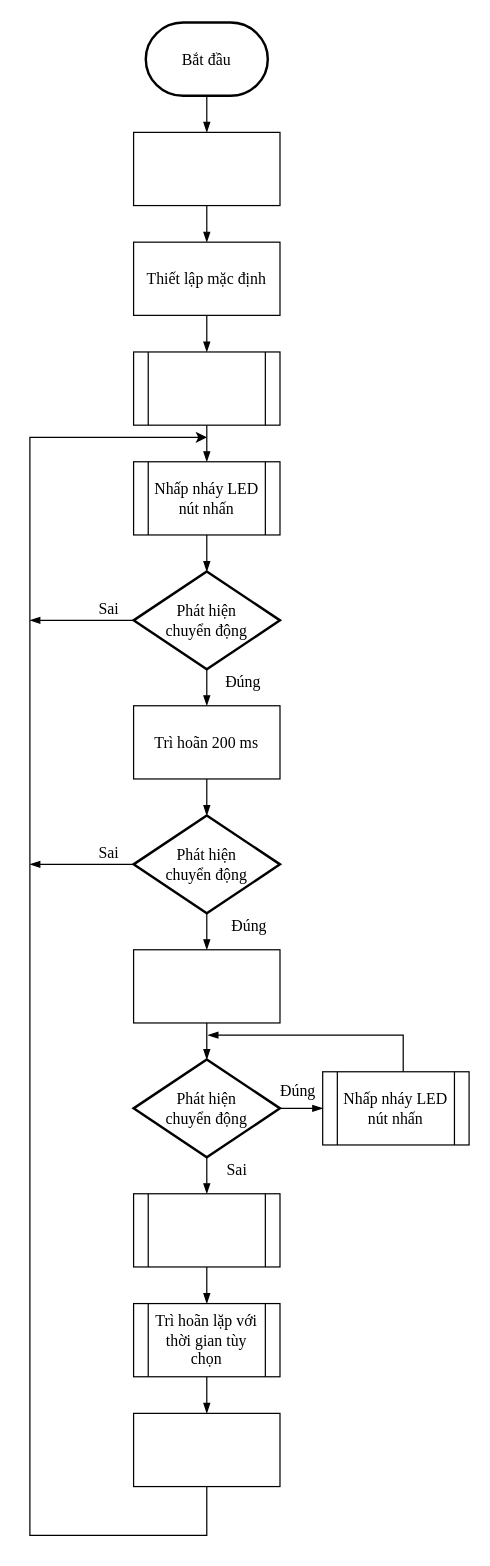
The diagram is 490 pixels wide and 1566 high, and some of its shapes have lost their labels. The shapes that lost their labels are listed below. From the top down, each one's box as (x1, y1, x2, y2) in pixels, then its label:
(132, 131, 280, 206): Thiết lập phần cứng
(132, 351, 280, 425): Thiết lập ngắt nút nhấn
(132, 949, 280, 1023): Bật đèn
(132, 1193, 280, 1267): Trì hoãn không lặp 3 giây
(132, 1412, 280, 1487): Tắt đèn
